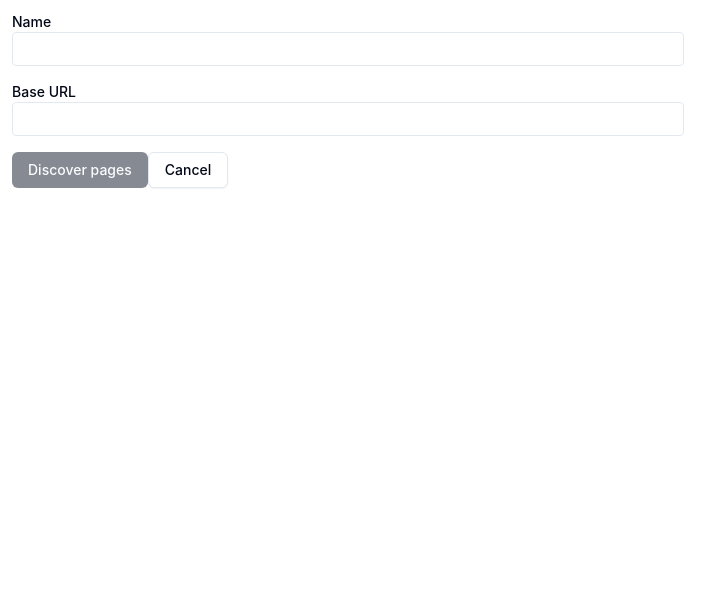
Test case: SiteWizard › partial page-add failure keeps remaining selected and shows ErrorBanner
Type "X" into the field labelled "Name". click: (348,49)
box: [12, 32, 684, 66]
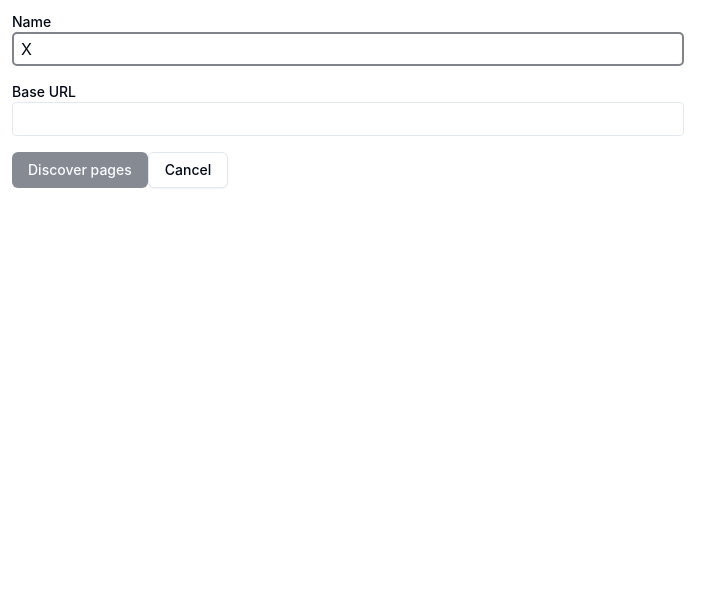
Type "https://x" into the field labelled "Base URL". click: (348,119)
box: [12, 102, 684, 136]
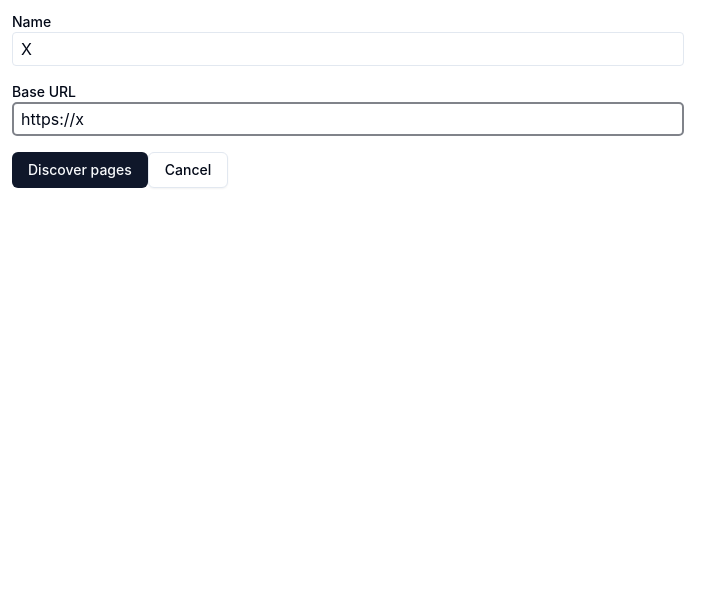
Click the button "Discover pages". click: (80,170)
box: [12, 152, 148, 188]
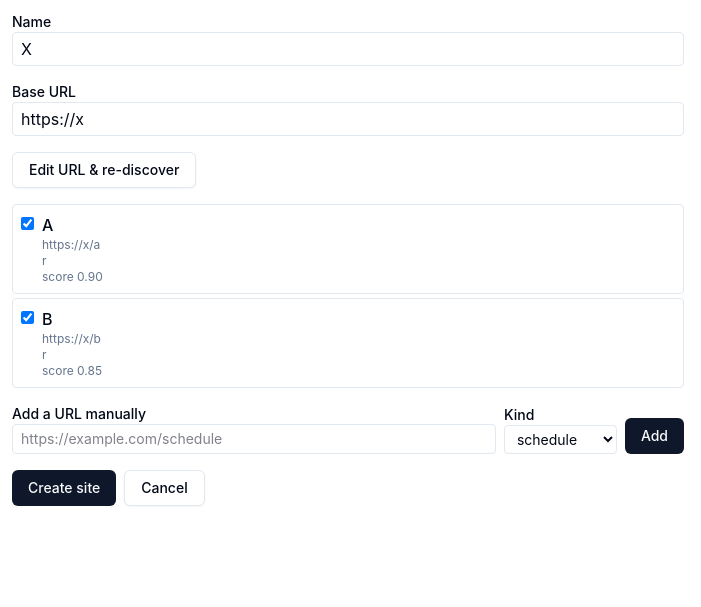
Result: the text "A" is shown at [42, 215, 53, 235]
Click the button "Create site". click: (64,488)
box: [12, 470, 116, 506]
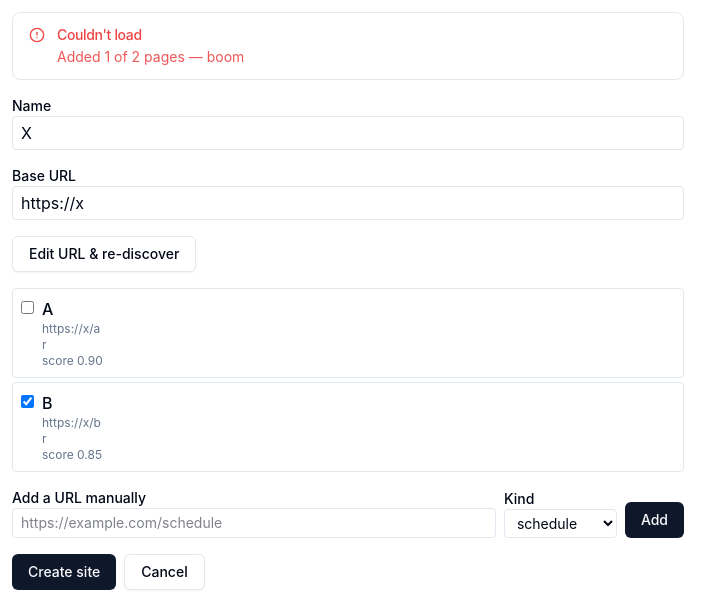
Result: the checkbox labelled "B https://x/b r score 0.85" is checked at [21, 395, 34, 408]
Result: the text "Added 1 of 2 pages — boom" is shown at [57, 47, 244, 67]
Result: the checkbox labelled "A https://x/a r score 0.90" is not checked at [21, 301, 34, 314]
